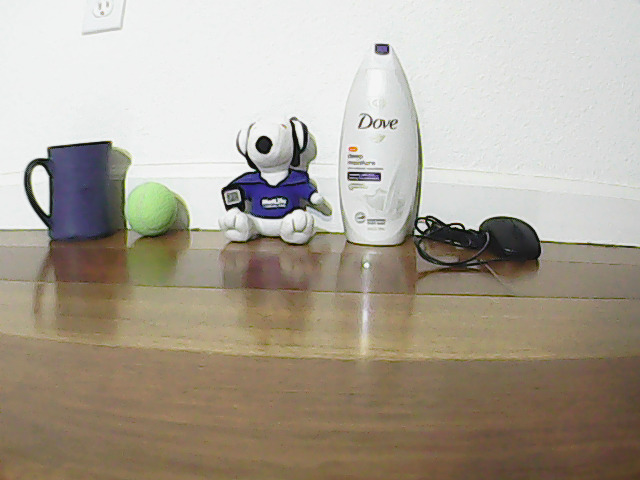ball: (120, 174, 181, 236)
mouse: (466, 204, 557, 266)
mug: (22, 121, 117, 239)
snoopy: (227, 97, 310, 245)
soap: (340, 37, 413, 240)
